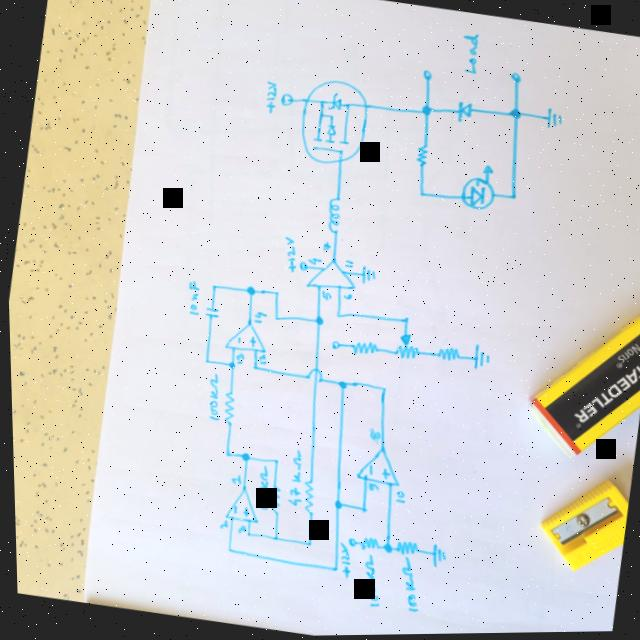capacitor: (198, 305, 219, 322)
crossover: (301, 366, 322, 386)
diode: (452, 160, 500, 217), (451, 99, 476, 126)
ground: (466, 343, 491, 376), (539, 106, 564, 136), (424, 544, 445, 572), (355, 265, 376, 289)
inductor: (321, 197, 342, 237)
junction: (504, 107, 523, 125), (418, 105, 432, 120), (331, 379, 345, 394), (327, 499, 341, 513), (235, 451, 249, 465), (241, 286, 255, 299), (397, 316, 409, 328), (310, 316, 322, 327), (218, 449, 229, 461), (220, 545, 231, 557), (266, 533, 277, 545), (378, 544, 389, 555), (505, 192, 516, 203), (222, 361, 233, 372), (374, 386, 385, 397), (414, 191, 424, 201), (199, 357, 208, 367), (325, 566, 334, 575), (355, 507, 364, 516), (300, 541, 309, 550), (207, 283, 215, 292), (332, 313, 340, 321), (269, 316, 278, 323), (270, 291, 278, 298), (248, 365, 255, 372), (269, 458, 276, 465)
resistor: (386, 333, 421, 365), (294, 480, 314, 517), (216, 390, 235, 427), (345, 340, 377, 360), (410, 143, 431, 171), (430, 346, 459, 366), (390, 540, 416, 560), (264, 487, 280, 516), (354, 537, 376, 554)
terminal: (506, 71, 522, 89), (277, 92, 293, 110), (420, 72, 432, 83), (328, 341, 339, 352), (295, 262, 306, 273), (342, 539, 353, 549)
text: (389, 557, 422, 615), (352, 554, 383, 610), (279, 449, 305, 509), (455, 32, 482, 79), (199, 373, 223, 423), (249, 464, 271, 513), (277, 237, 298, 275), (330, 543, 351, 581), (181, 280, 201, 318), (259, 80, 278, 117), (249, 311, 266, 326), (364, 428, 379, 442), (390, 491, 403, 506), (305, 256, 320, 269), (212, 519, 226, 532), (225, 474, 239, 487), (230, 353, 243, 366), (362, 483, 376, 495), (318, 241, 330, 254), (253, 355, 266, 367), (318, 291, 330, 303), (232, 525, 244, 537), (341, 260, 352, 270), (339, 294, 351, 302)
transistor: (290, 75, 370, 173)
